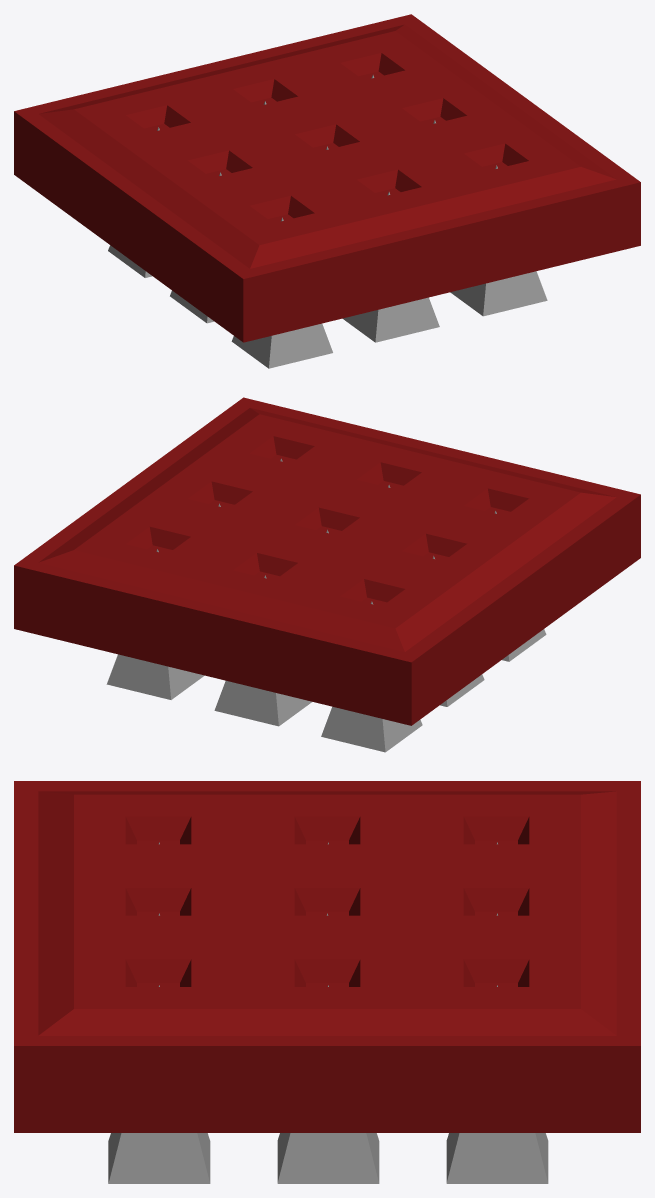
The model's file is Model_Undead_Trap.fbx.
The picture shows the model from 3 angles, top to bottom: view 1: azimuth 30°, elevation 25°; view 2: azimuth 150°, elevation 25°; view 3: azimuth 270°, elevation 25°; orthographic projection. The views are drawn at different scales.
Visible parts, largest first — view 1: Model_Frost_Trap, Model_Frost_Trap1; view 2: Model_Frost_Trap, Model_Frost_Trap1; view 3: Model_Frost_Trap, Model_Frost_Trap1.
Boxes of the visible parts, bbox=[...] form: Model_Frost_Trap: bbox=[14, 14, 640, 342]; Model_Frost_Trap1: bbox=[108, 75, 547, 368]; Model_Frost_Trap: bbox=[14, 397, 640, 725]; Model_Frost_Trap1: bbox=[106, 458, 546, 752]; Model_Frost_Trap: bbox=[14, 781, 640, 1132]; Model_Frost_Trap1: bbox=[108, 842, 548, 1183].
Size of the model in its own units: 200 by 66.41 by 200.
